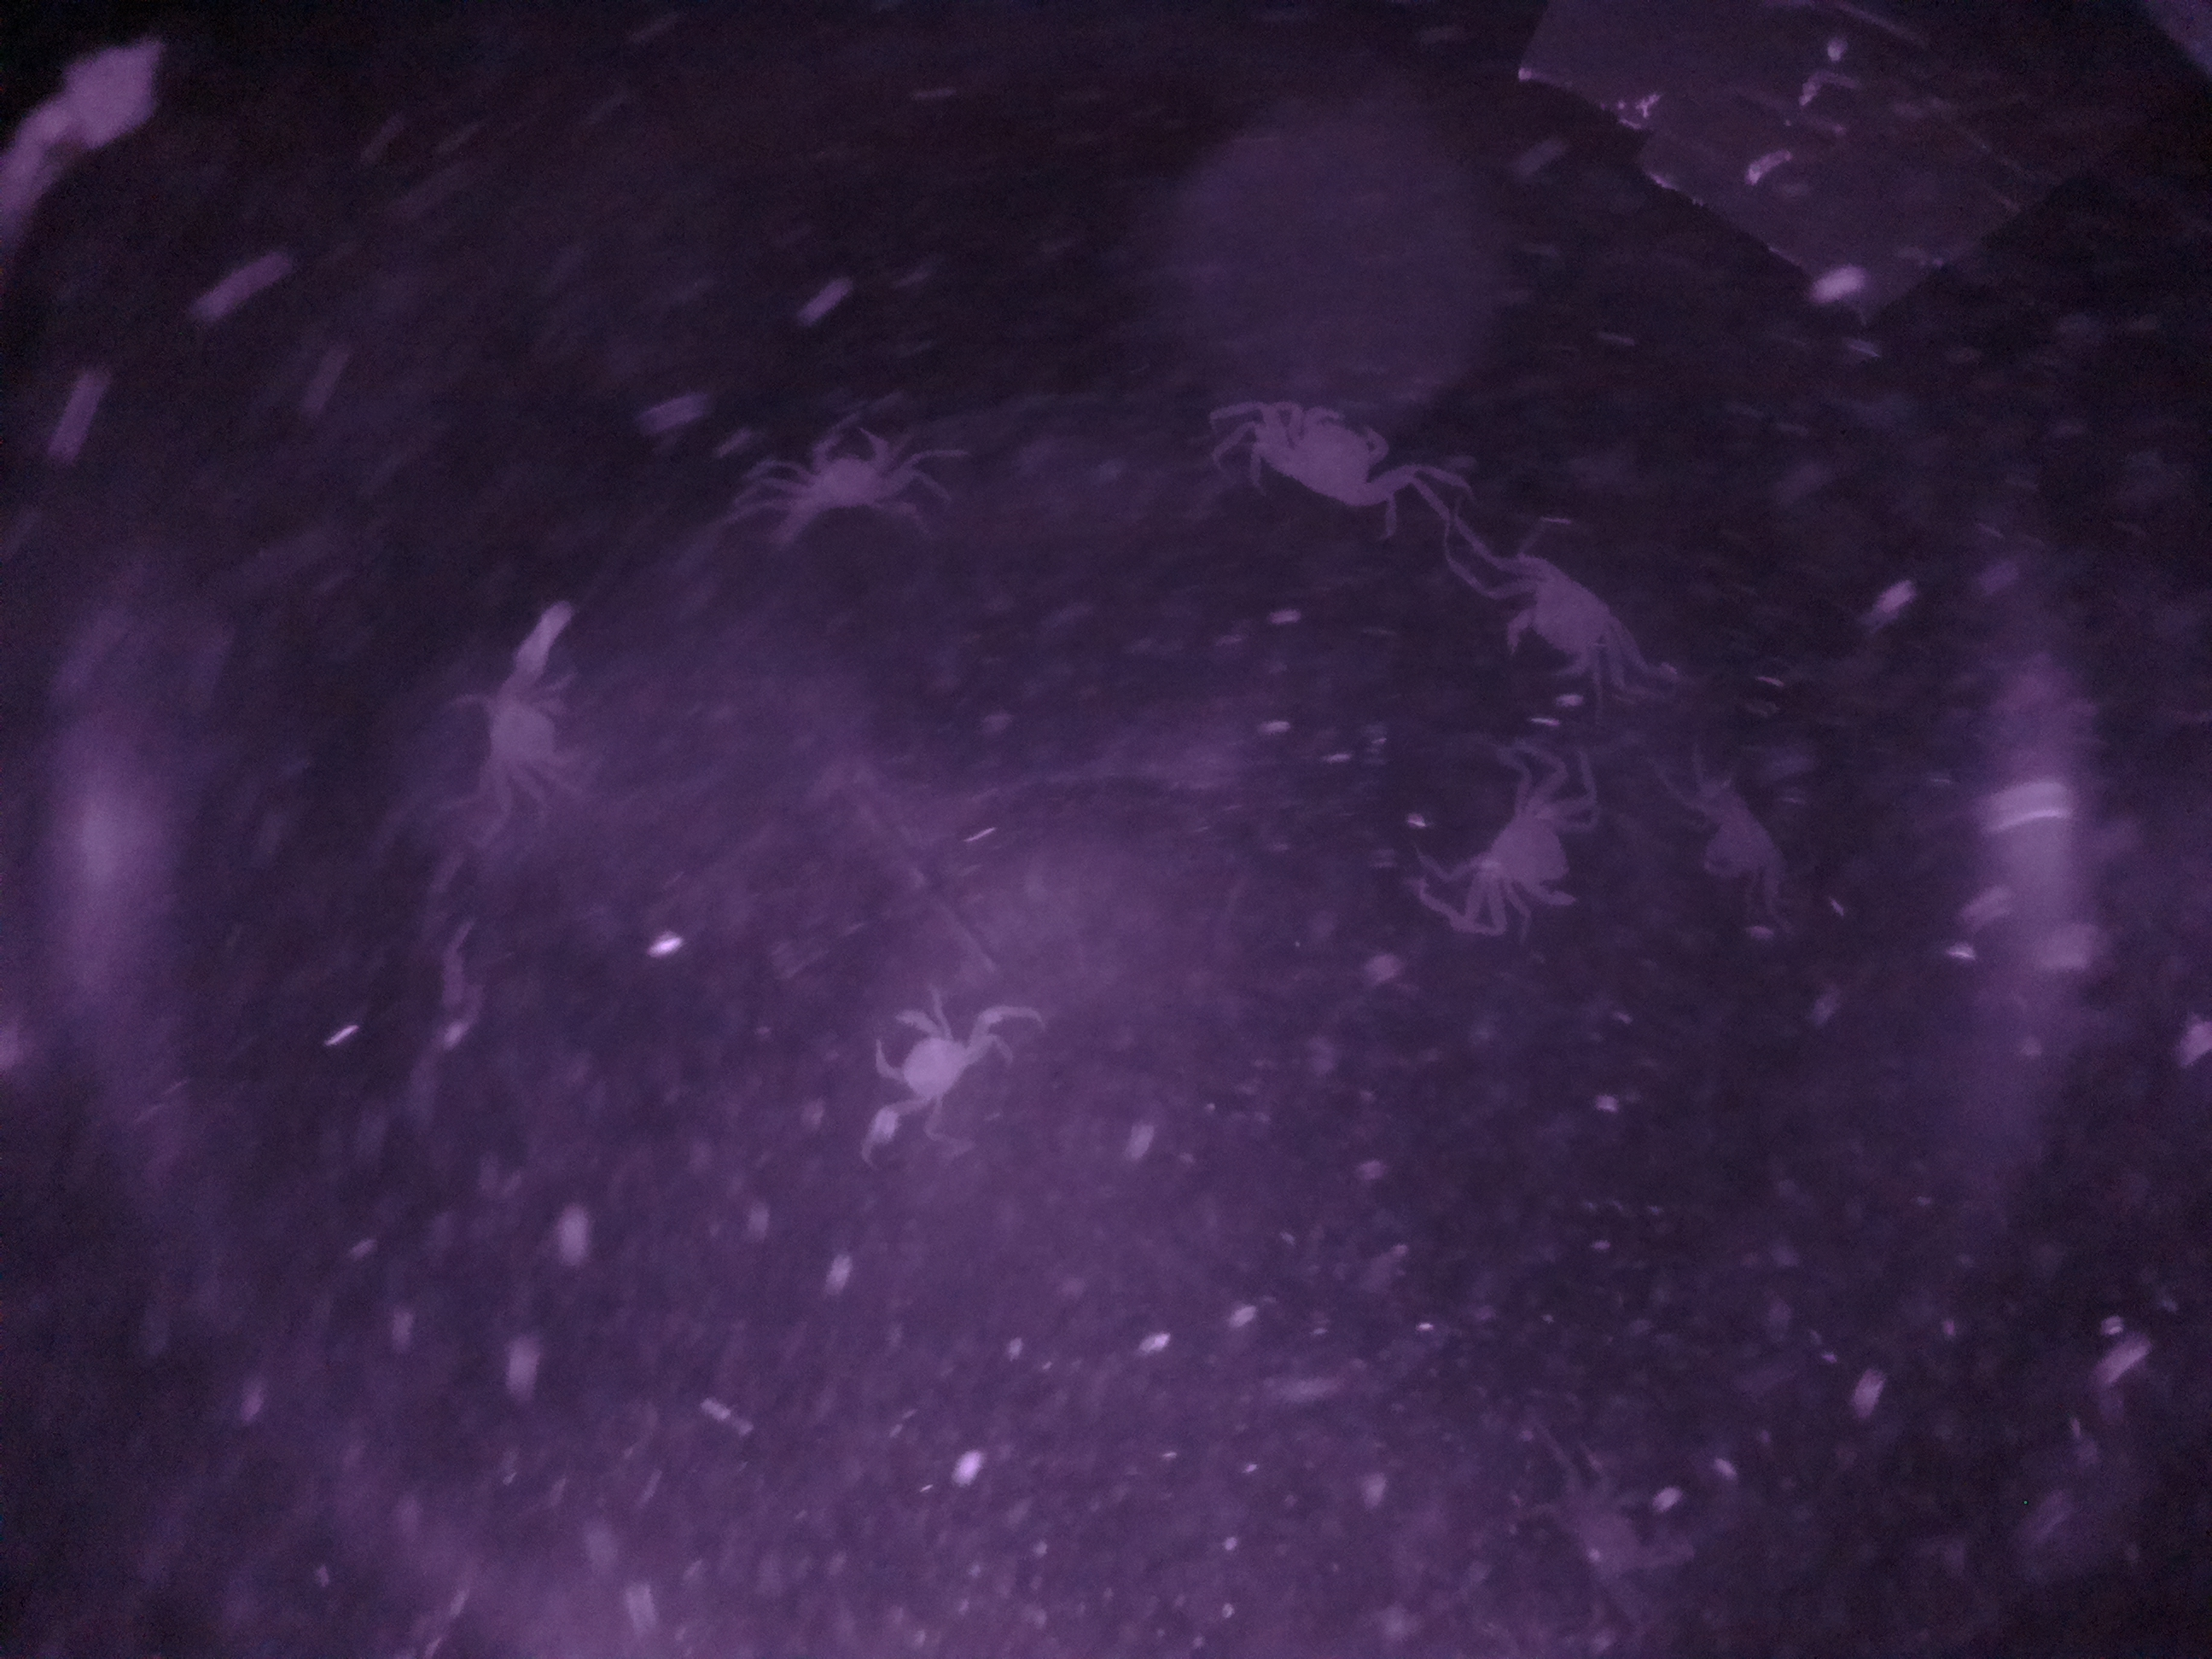Crab: (1440, 767, 1608, 938), (1474, 542, 1658, 687), (1245, 394, 1413, 525)
